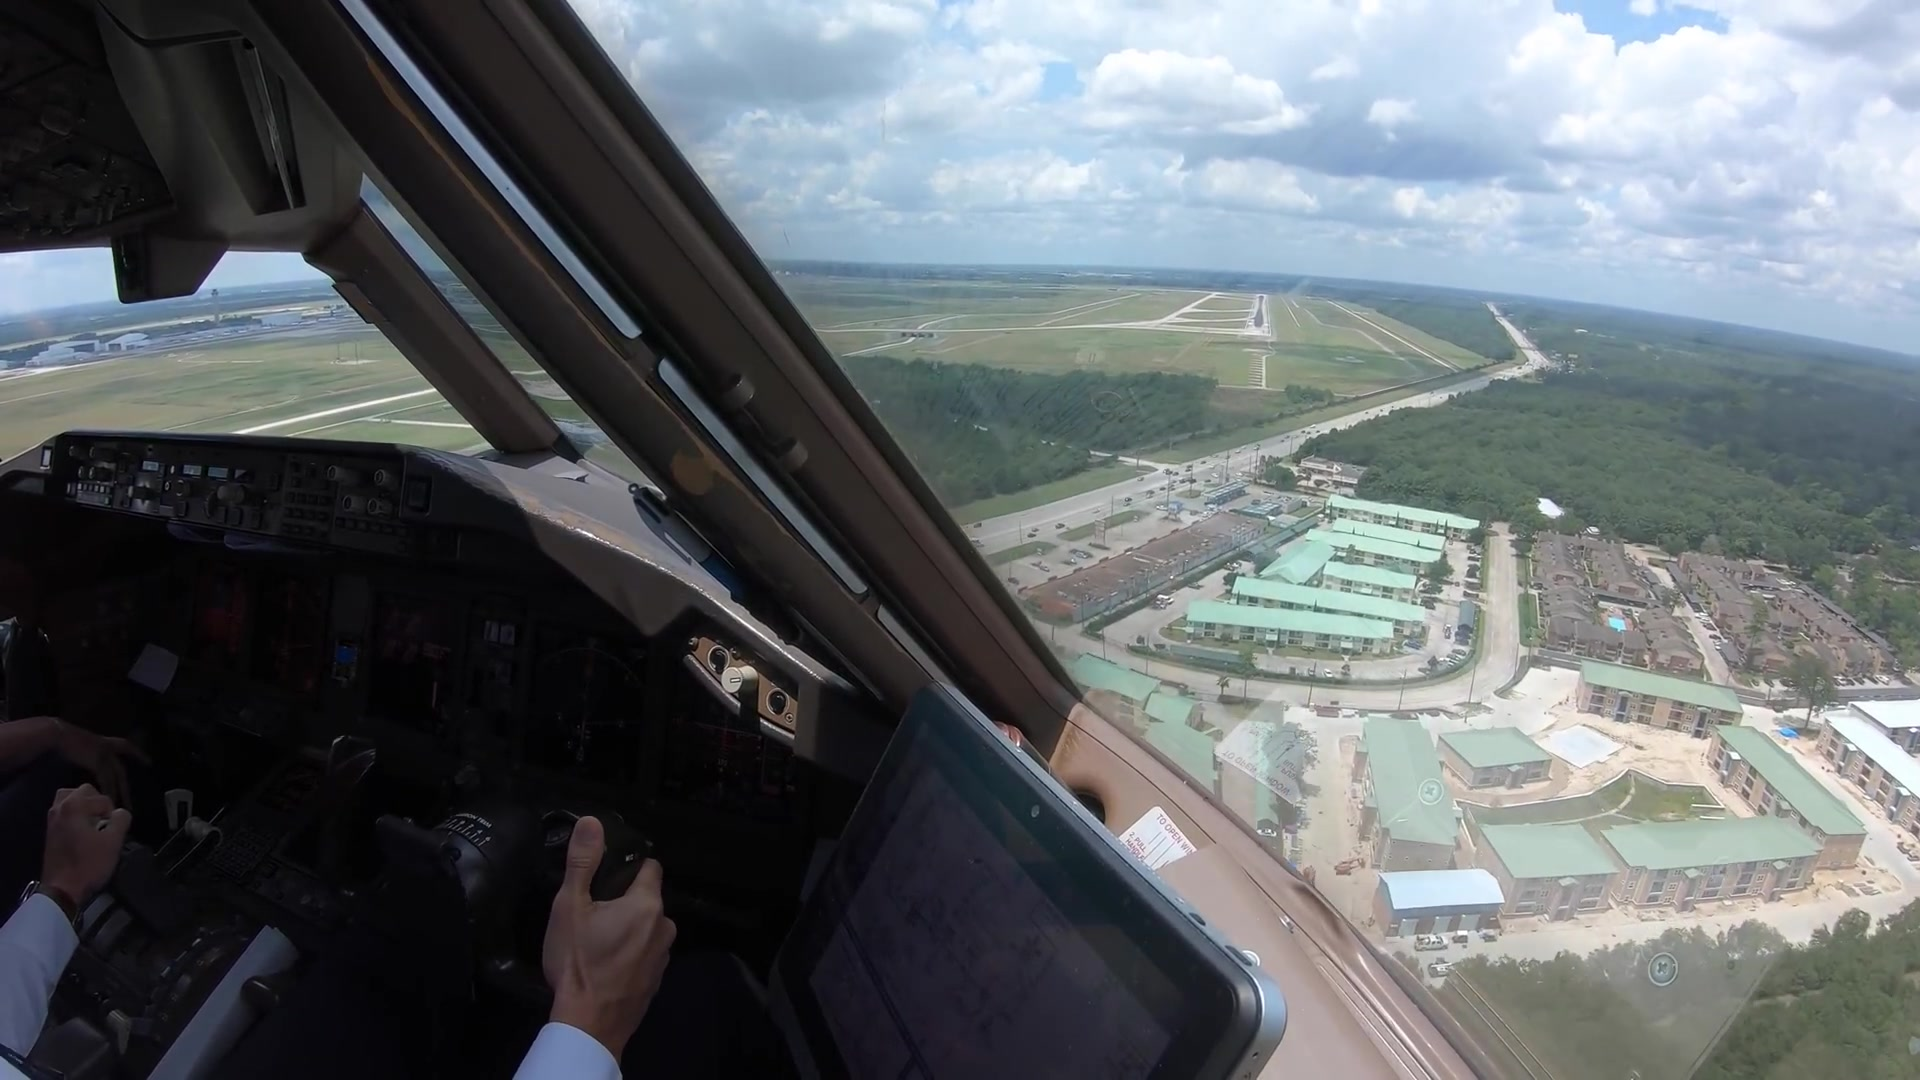runway: (1240, 295, 1271, 339)
